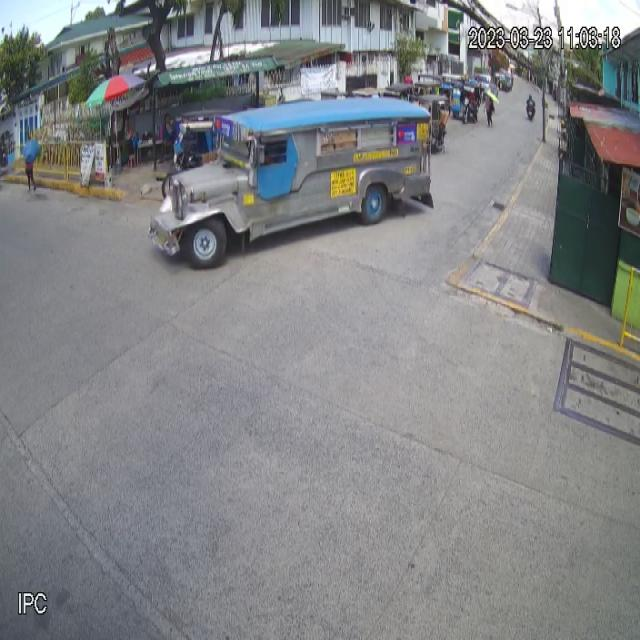Jeep: (148, 96, 433, 269)
